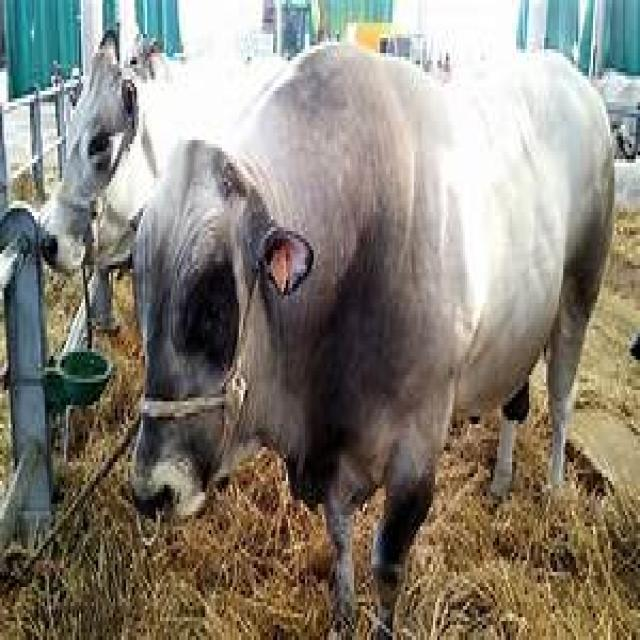cow: (128, 45, 617, 640), (41, 30, 213, 284)
